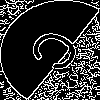C: (25, 25, 94, 82)
